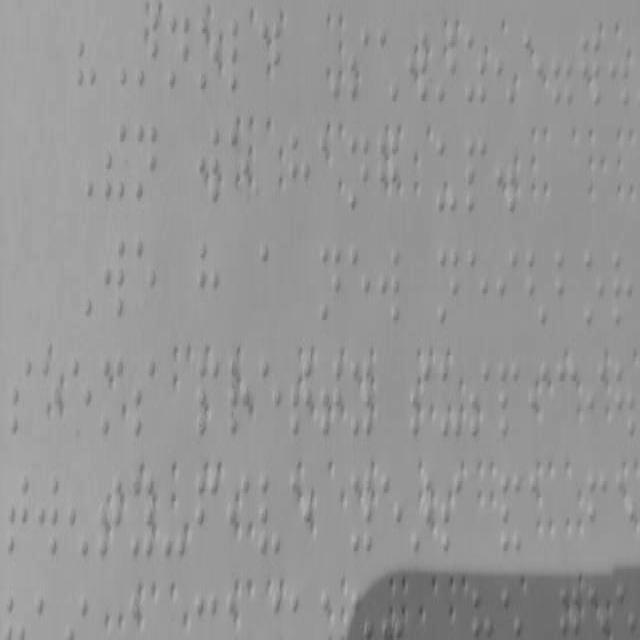braiile: (496, 357, 522, 448), (258, 238, 284, 326), (132, 353, 158, 438), (132, 234, 156, 326), (586, 468, 610, 559), (464, 134, 491, 214), (436, 244, 460, 334), (466, 244, 490, 334), (134, 120, 158, 209), (582, 242, 606, 331), (259, 353, 283, 442), (196, 238, 220, 326), (348, 241, 372, 328), (167, 8, 191, 94), (611, 246, 635, 332), (36, 471, 59, 560), (318, 244, 342, 329), (378, 245, 402, 328), (379, 472, 403, 554), (556, 358, 578, 447), (103, 236, 125, 324), (288, 129, 312, 209), (9, 356, 33, 436), (70, 356, 94, 436), (196, 472, 218, 559), (586, 359, 606, 450), (7, 476, 29, 556), (497, 246, 517, 332), (555, 244, 575, 329), (132, 473, 152, 558), (348, 131, 369, 211), (230, 15, 250, 96), (260, 476, 280, 556)
